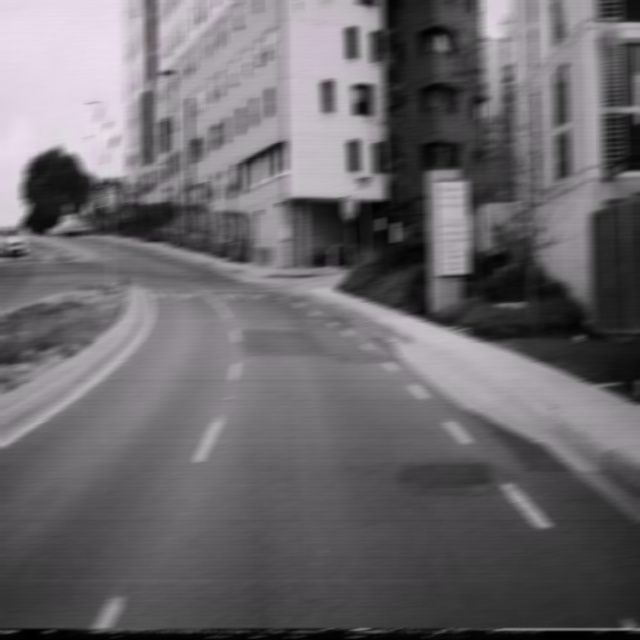stop: (103, 183, 119, 212), (343, 190, 355, 220)
